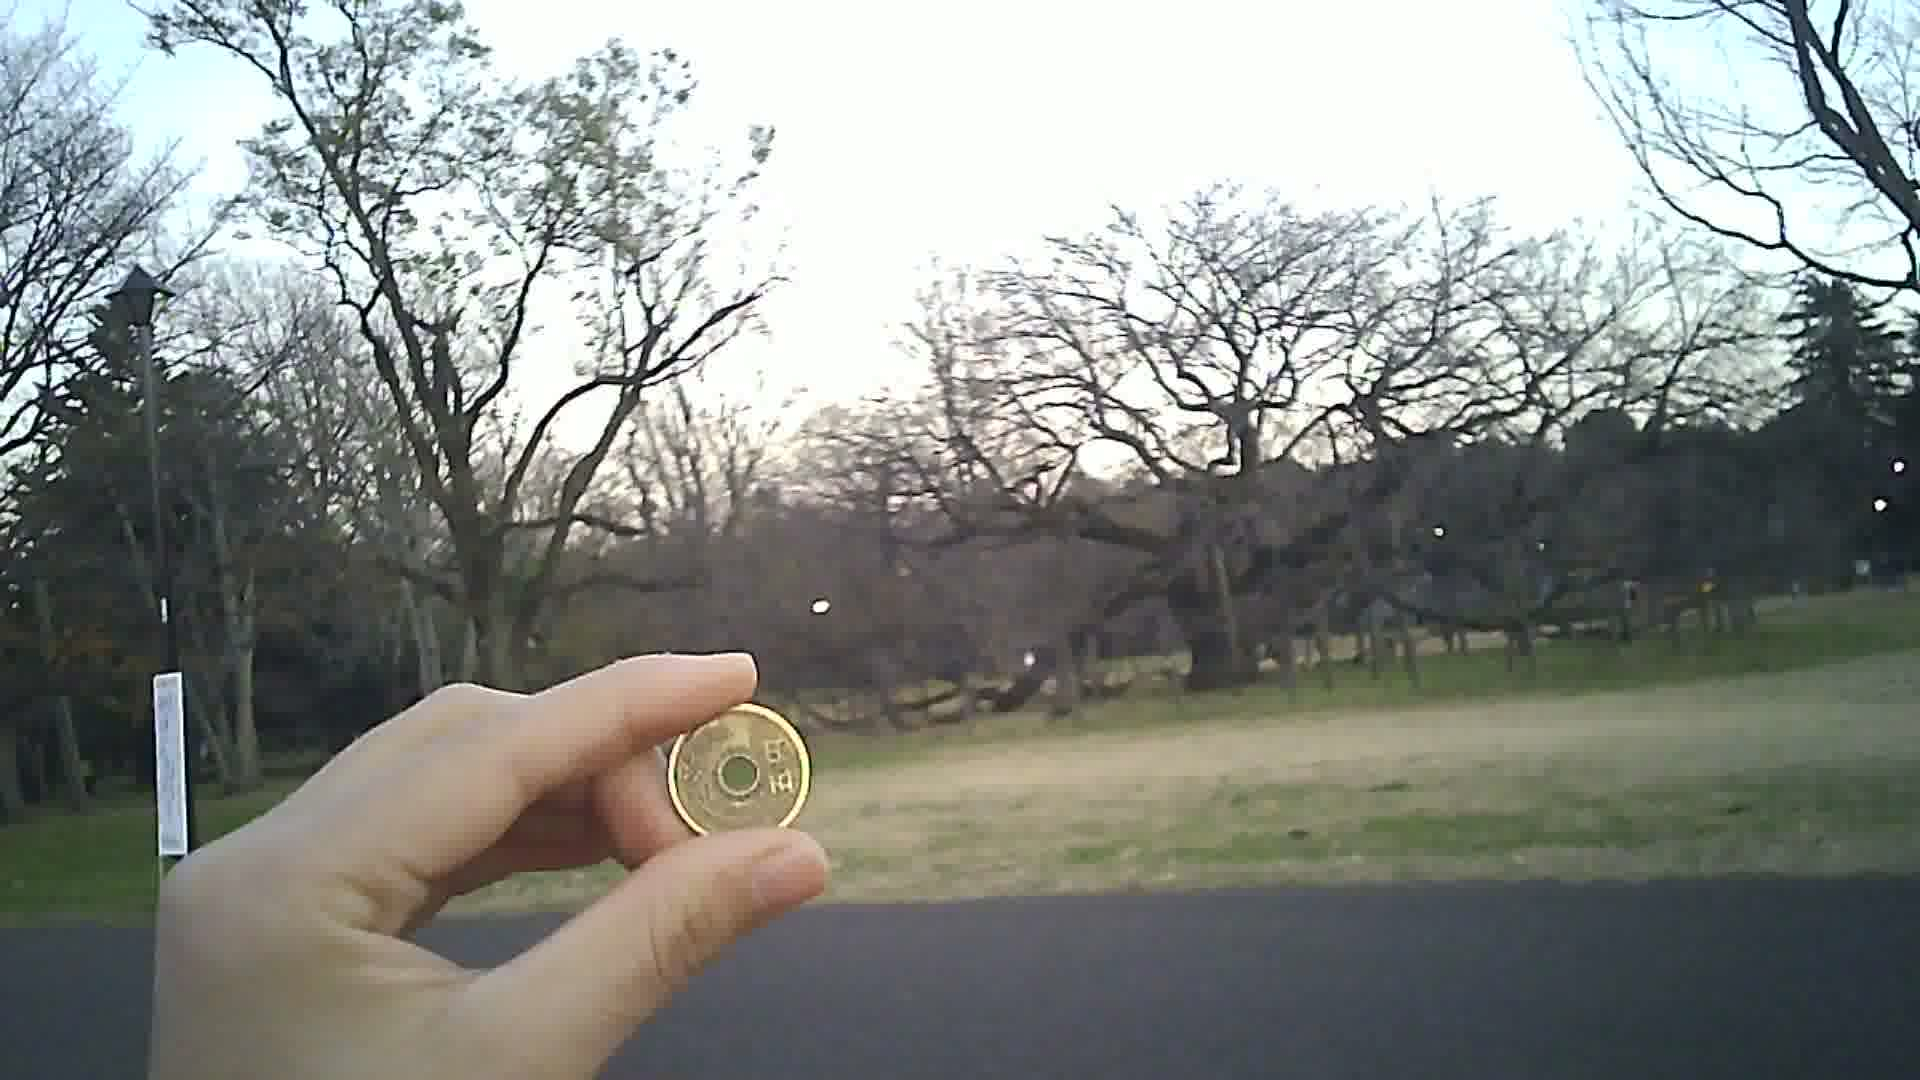5 Yen: (661, 694, 814, 856)
